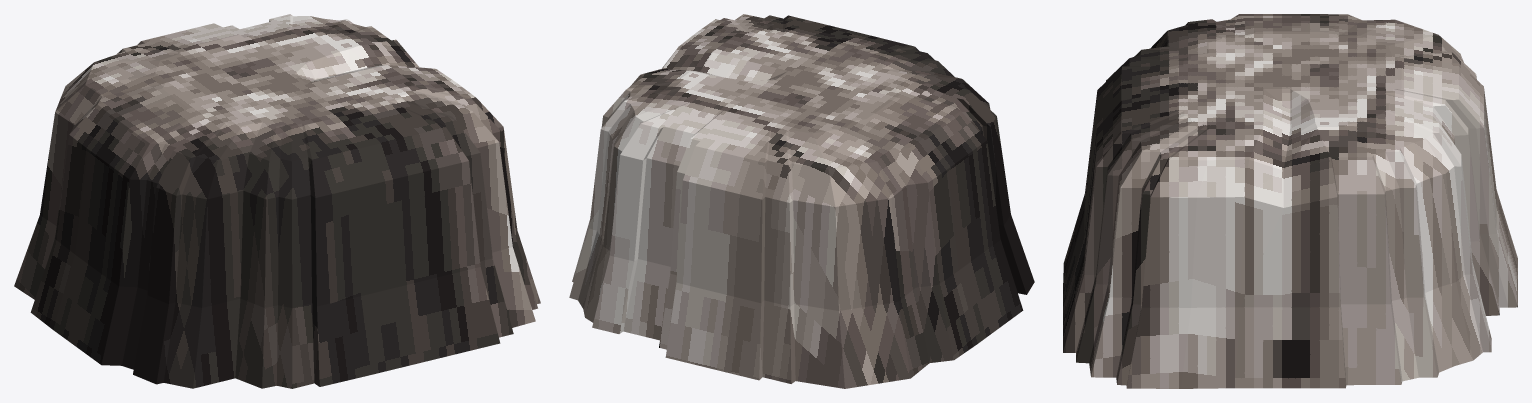
Rendered from Boulder_343x00.gltf.
The picture shows the model from 3 angles, left to right: view 1: azimuth 30°, elevation 25°; view 2: azimuth 150°, elevation 25°; view 3: azimuth 270°, elevation 25°; orthographic projection. The views are drawn at different scales.
Visible parts, largest first — view 1: Boulder_343x0; view 2: Boulder_343x0; view 3: Boulder_343x0.
Part boxes in pixels (left/top/right/bottom): Boulder_343x0: left=14, top=14, right=540, bottom=388; Boulder_343x0: left=569, top=14, right=1034, bottom=388; Boulder_343x0: left=1063, top=14, right=1517, bottom=388.
Size of the model in its own units: 4.5 by 2.3 by 4.39.
1 material, 1 textured.
